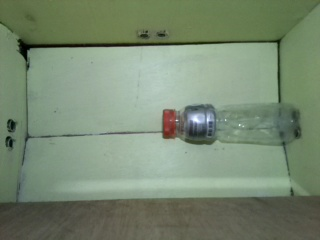bottle: (162, 102, 300, 148)
